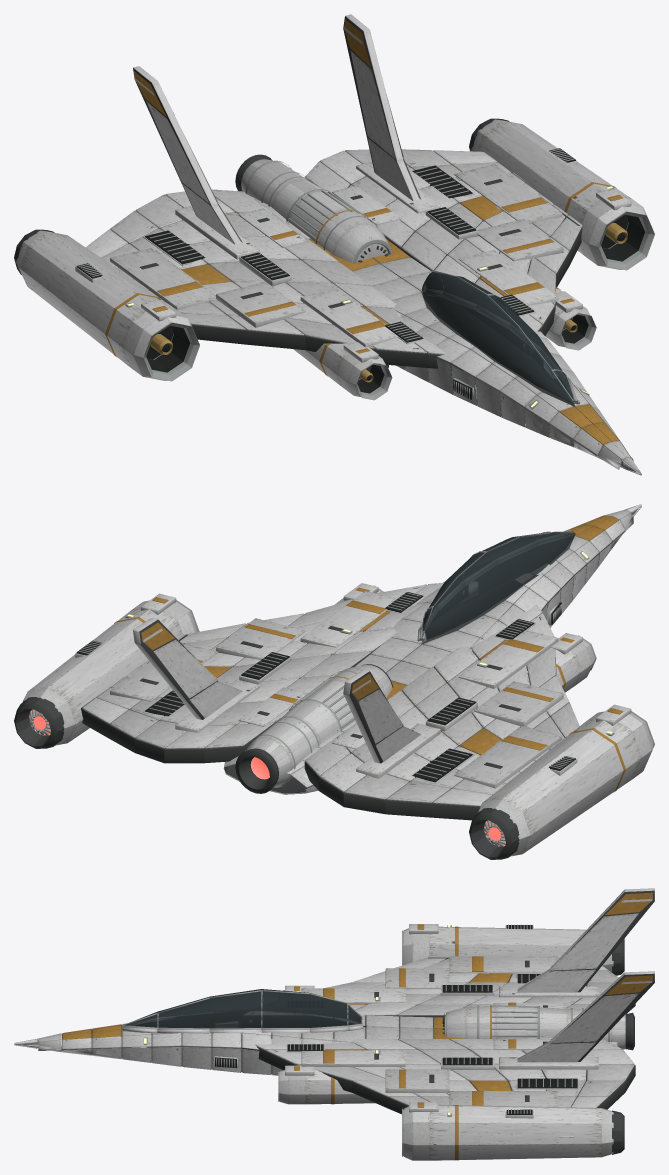
File: futuristic_airfighter_cgpt-14.glb
3 renders of one model, top to bottom at view 1: azimuth 30°, elevation 25°; view 2: azimuth 150°, elevation 25°; view 3: azimuth 270°, elevation 25°, orthographic. The views are drawn at different scales.
Visible parts, largest first — view 1: Spaceship CGPT-14_0; view 2: Spaceship CGPT-14_0; view 3: Spaceship CGPT-14_0.
Boxes of the visible parts, left/top/right/bottom form: Spaceship CGPT-14_0: left=14, top=14, right=654, bottom=475; Spaceship CGPT-14_0: left=14, top=504, right=654, bottom=859; Spaceship CGPT-14_0: left=14, top=888, right=654, bottom=1160.
Size of the model in its own units: 14.49 by 4.65 by 19.31.
Materials: 8 (1 with a texture image).
